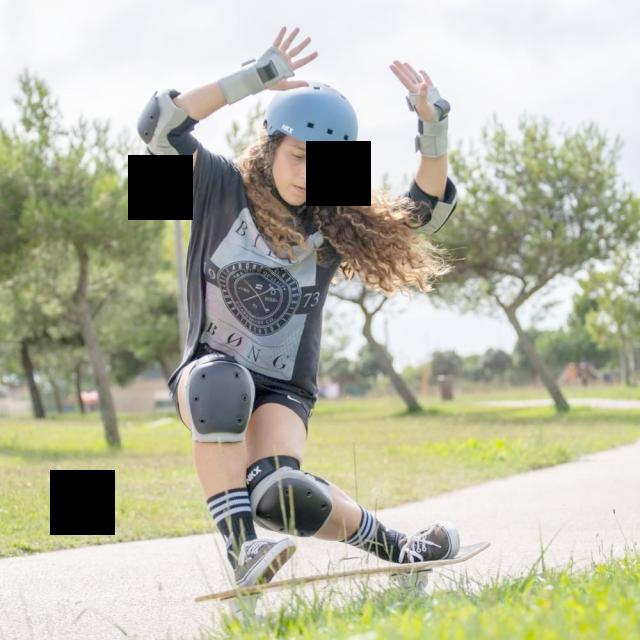Helmet: (260, 80, 360, 206)
